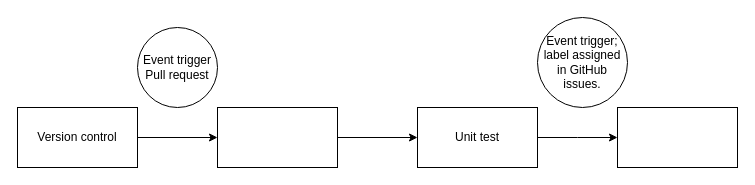
Image size: 755x185. Some labels were removed from this diagram. The shapes that lost their labels are listed below. From the top down, each one's centre as x and y in pixels, then its label:
[277,137]: Build
[677,137]: Deploy to production
